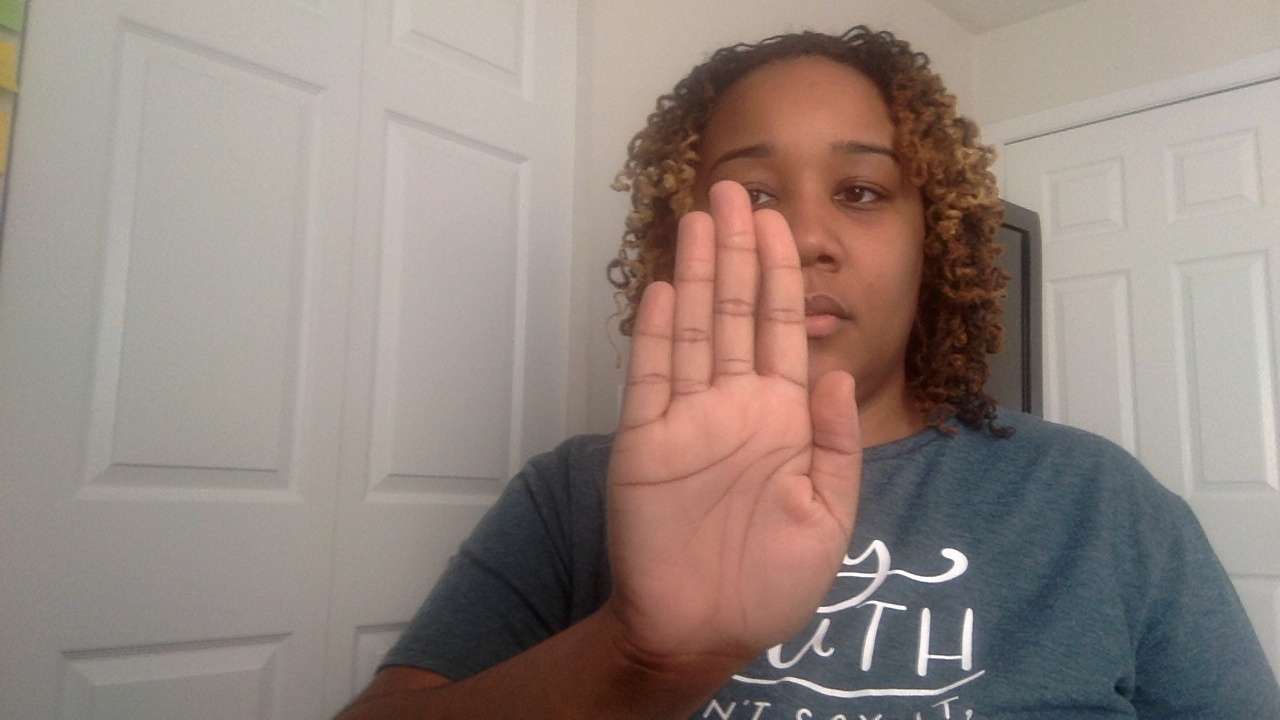hello: (575, 11, 1017, 691)
